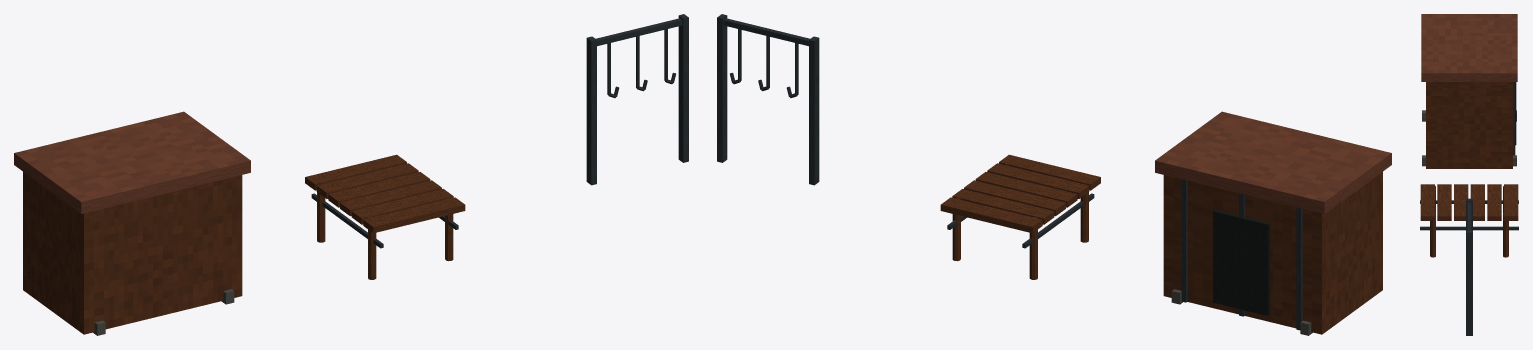
The model's file is KIT_rexa_warehouse_quarter.gltf.
3 views of the same model, side by side, from view 1: azimuth 30°, elevation 25°; view 2: azimuth 150°, elevation 25°; view 3: azimuth 270°, elevation 25° (orthographic). The views are drawn at different scales.
Visible parts, largest first — view 1: 01_warehouse, 02_pier, 03_rail; view 2: 01_warehouse, 02_pier, 03_rail; view 3: 01_warehouse, 02_pier, 03_rail.
Part boxes in pixels (x1,y1,x2,y2): 01_warehouse: (14, 111, 250, 335); 02_pier: (305, 154, 465, 279); 03_rail: (586, 14, 688, 185); 01_warehouse: (1155, 111, 1391, 335); 02_pier: (940, 154, 1100, 279); 03_rail: (717, 14, 819, 185); 01_warehouse: (1421, 14, 1517, 168); 02_pier: (1420, 184, 1518, 257); 03_rail: (1466, 198, 1472, 335).
Size of the model in its own units: 13.91 by 3.35 by 2.6.
5 materials, 5 textured.
